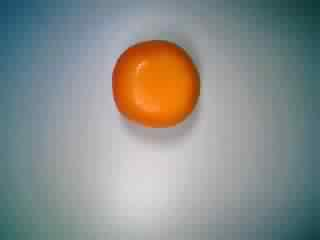orange: (107, 35, 200, 132)
